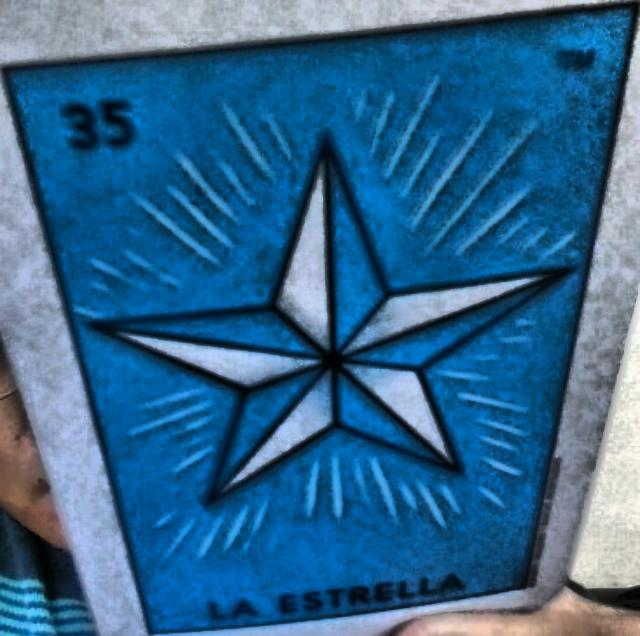La Estrella: (7, 3, 636, 633)
